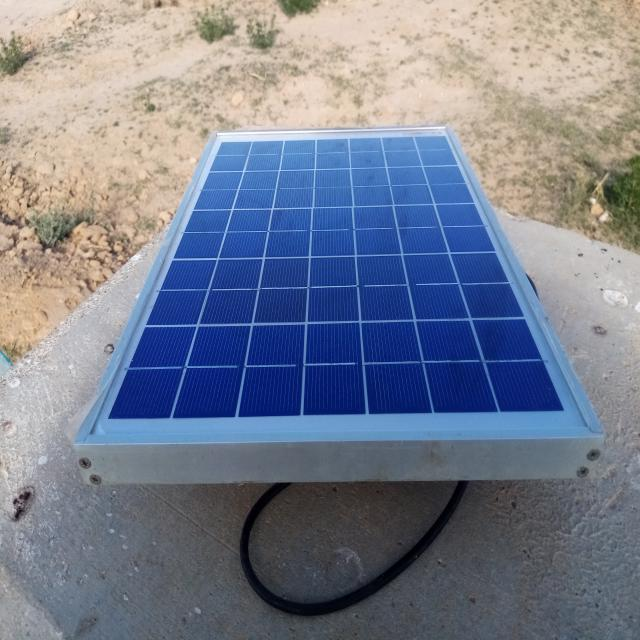no faulty: (78, 127, 600, 445)
